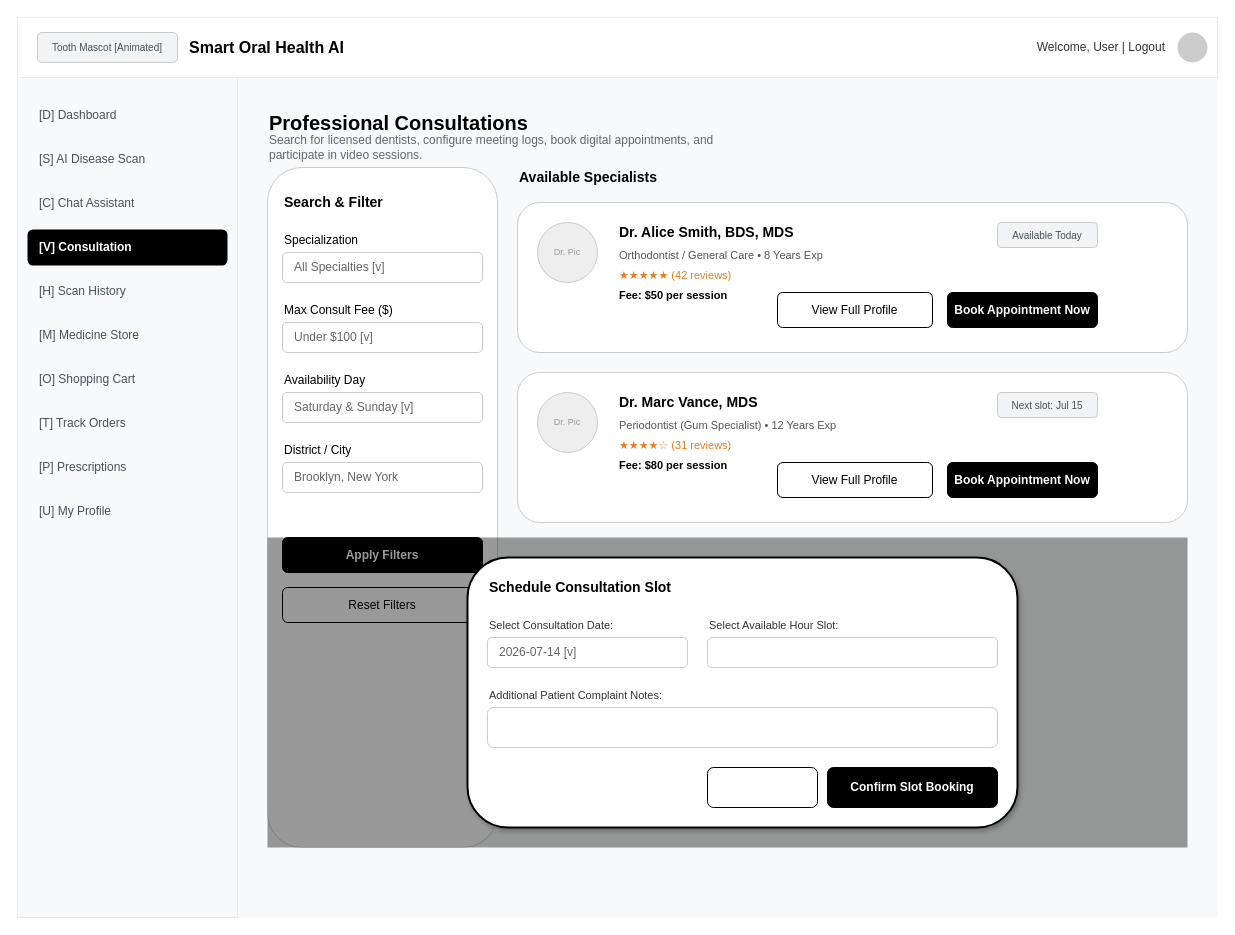
Some shapes in this 1235 by 935 pixel diagram are drawn without their labels. Here are the shapes that lost their labels. From the top down, the centre of each, then its label:
[852,652]: 04:30 PM - 05:00 PM [v]
[742,727]: My molar tooth is sensitive to hot drinks.
[762,787]: Cancel
